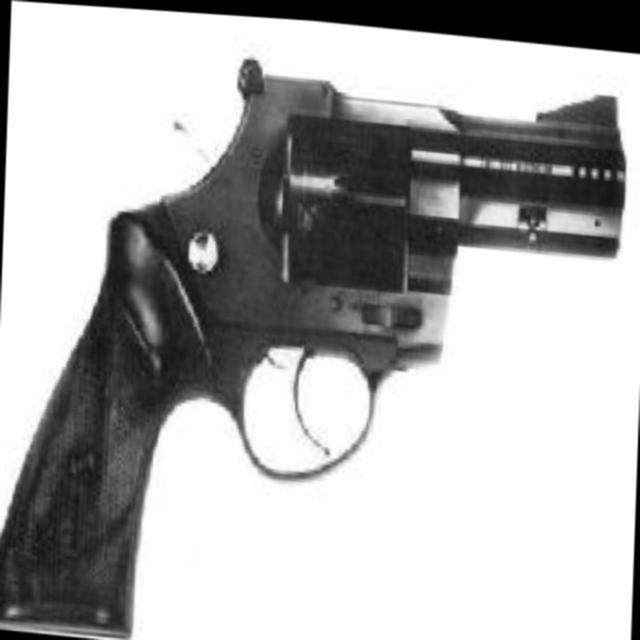weapon: (0, 24, 628, 640)
